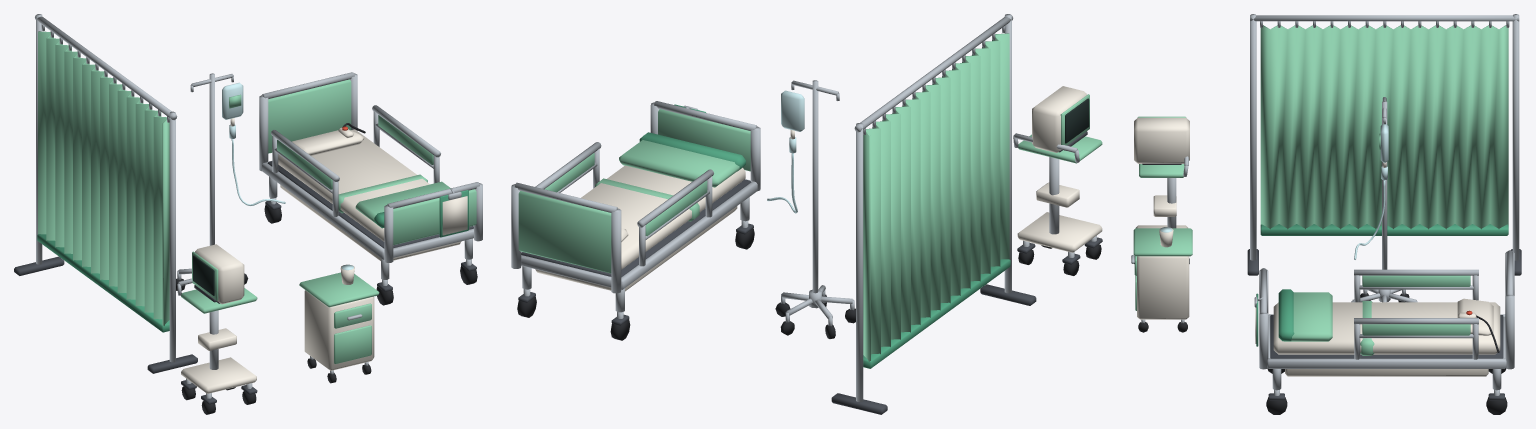
The model's file is hospital-bed-bay.glb.
3 renders of one model, left to right at view 1: azimuth 30°, elevation 25°; view 2: azimuth 150°, elevation 25°; view 3: azimuth 270°, elevation 25°, orthographic. The views are drawn at different scales.
Visible parts, largest first — view 1: Curtain_Panel, Bed_Mattress, Bed_Headboard, Table_Body, Bed_Footboard, Curtain_Post_-1, Cart_Base, Table_Top, Monitor_Housing, Bed_SideFrame_L, Curtain_Hem, Curtain_Rail (+27 smaller); view 2: Curtain_Panel, Bed_Headboard, Bed_Mattress, Bed_Blanket, Bed_Footboard, Curtain_Post_1, Cart_Base, Monitor_Housing, Bed_SideFrame_L, Curtain_Hem, Curtain_Rail, IV_Pole (+22 smaller); view 3: Curtain_Panel, Bed_Mattress, Table_Body, Bed_SideFrame_R, Monitor_Housing, Curtain_Hem, Bed_Blanket, Curtain_Post_1, Curtain_Rail, Curtain_Post_-1, Bed_Base_Cover, Table_Top (+16 smaller).
Part boxes in pixels (x1,y1,x2,y2): Curtain_Panel: (38,31,169,325); Bed_Mattress: (278,129,429,241); Bed_Headboard: (268,79,351,153); Table_Body: (304,290,374,370); Bed_Footboard: (393,189,476,245); Curtain_Post_-1: (169,111,175,362); Cart_Base: (181,357,256,393); Table_Top: (299,272,379,307); Monitor_Housing: (195,244,244,304); Bed_SideFrame_L: (262,162,384,259); Curtain_Hem: (37,234,169,332); Curtain_Rail: (35,15,177,120); Curtain_Panel: (863,33,1009,361); Bed_Headboard: (518,191,611,273); Bed_Mattress: (581,165,745,269); Bed_Blanket: (619,140,739,187); Bed_Footboard: (658,109,750,171); Curtain_Post_1: (856,123,863,401); Cart_Base: (1017,212,1102,252); Monitor_Housing: (1032,86,1086,152); Bed_SideFrame_L: (621,181,757,289); Curtain_Hem: (863,259,1010,368); Curtain_Rail: (854,16,1013,132); IV_Pole: (812,80,818,293); Curtain_Panel: (1260,25,1508,229); Bed_Mattress: (1273,302,1500,354); Table_Body: (1137,256,1189,319); Bed_SideFrame_R: (1267,358,1506,368); Monitor_Housing: (1134,117,1189,163); Curtain_Hem: (1260,224,1508,235); Bed_Blanket: (1284,292,1332,341); Curtain_Post_1: (1512,14,1519,260); Curtain_Rail: (1250,15,1519,21); Curtain_Post_-1: (1250,14,1256,260); Bed_Base_Cover: (1285,369,1488,376); Table_Top: (1133,228,1192,256).
Size of the model in its own units: 12.06 by 8.4 by 11.89.
